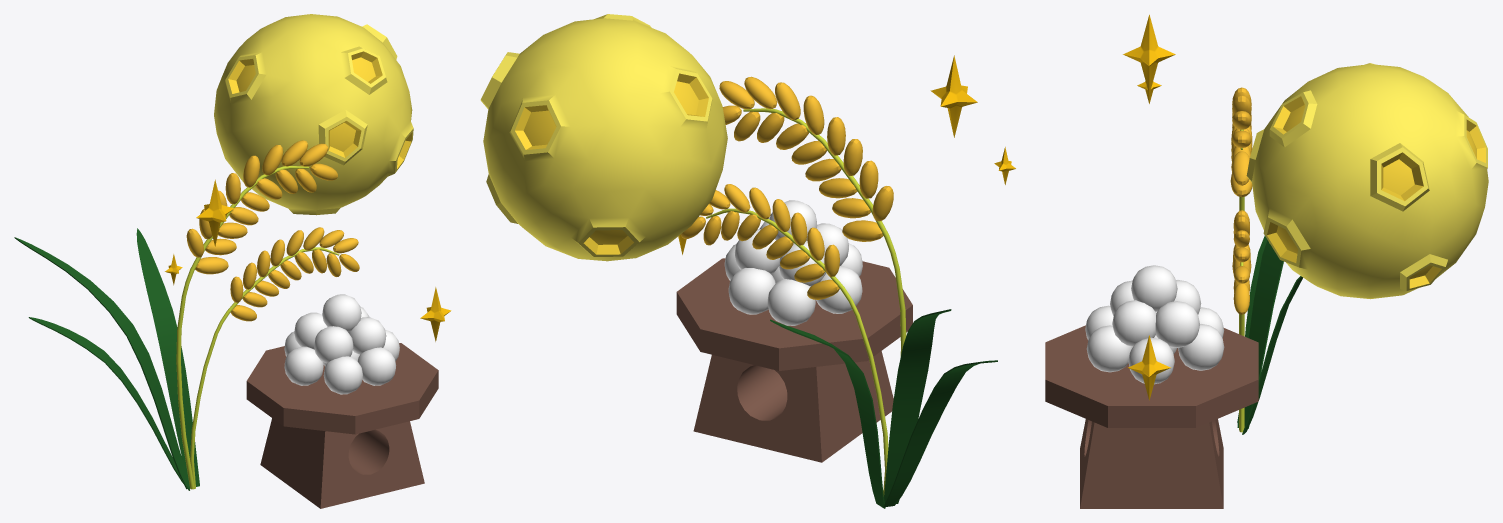
The model's file is moon_viewing_ceremony.glb.
The picture shows the model from 3 angles, left to right: view 1: azimuth 30°, elevation 25°; view 2: azimuth 150°, elevation 25°; view 3: azimuth 270°, elevation 25°; orthographic projection. The views are drawn at different scales.
Visible parts, largest first — view 1: Icosphere.013, Cube.901, Circle.2515, Cube.903, Cube.902; view 2: Icosphere.013, Cube.901, Circle.2515, Cube.903; view 3: Icosphere.013, Cube.901, Circle.2515, Cube.903, Cube.902.
Boxes of the visible parts, x1=… form: Icosphere.013: x1=214, y1=14, x2=413, y2=215; Cube.901: x1=246, y1=294, x2=438, y2=508; Circle.2515: x1=14, y1=140, x2=359, y2=490; Cube.903: x1=196, y1=179, x2=234, y2=246; Cube.902: x1=420, y1=287, x2=451, y2=341; Icosphere.013: x1=480, y1=14, x2=727, y2=261; Cube.901: x1=676, y1=200, x2=912, y2=462; Circle.2515: x1=681, y1=76, x2=997, y2=508; Cube.903: x1=930, y1=55, x2=977, y2=137; Icosphere.013: x1=1246, y1=63, x2=1488, y2=299; Cube.901: x1=1045, y1=265, x2=1258, y2=508; Circle.2515: x1=1230, y1=87, x2=1302, y2=434; Cube.903: x1=1123, y1=14, x2=1175, y2=94; Cube.902: x1=1128, y1=335, x2=1170, y2=400.
Size of the model in its own units: 2.75 by 2.6 by 2.28.
Materials: 1 (1 with a texture image).
